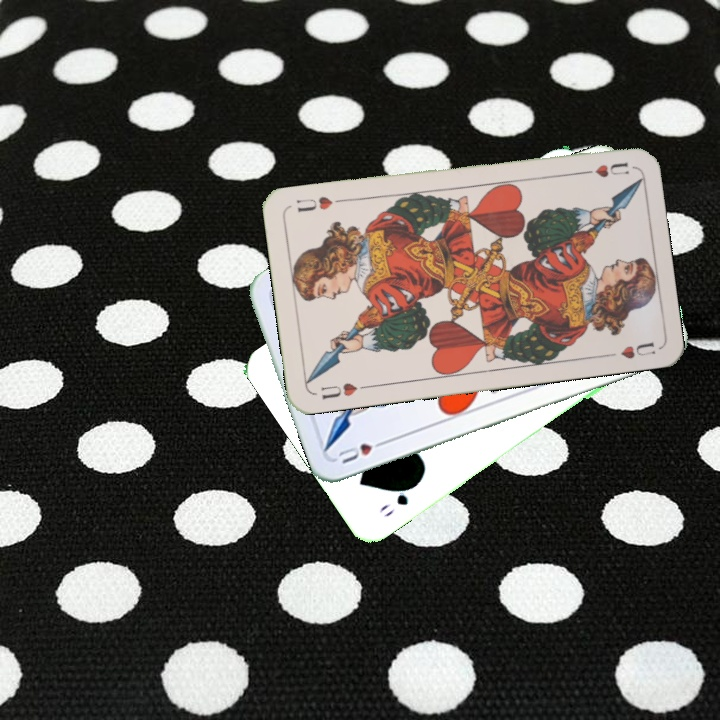GO: (374, 479, 421, 520)
HU: (334, 435, 391, 466), (317, 378, 370, 402), (575, 158, 631, 180)
